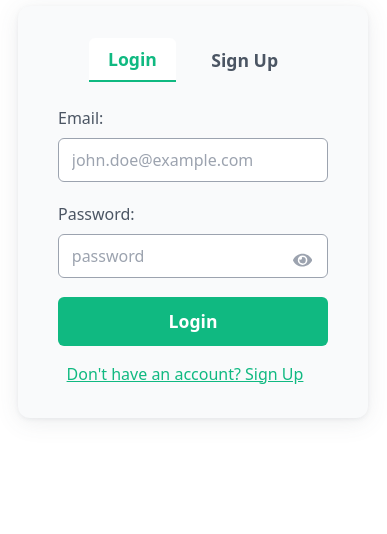
AuthForm (Login Component) - Session-Based Auth Tests › Form Rendering and Tab Navigation › renders signup form with confirm password field
Click the button "Sign Up". click: x=245, y=60
box: [192,38,297,82]
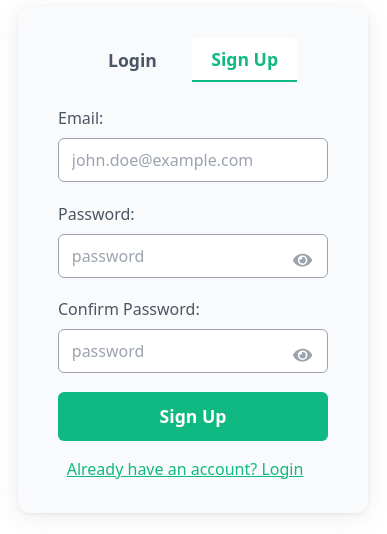
Expected: the field labelled "Email" is shown, [58,138,328,182]
Result: the password field labelled "Confirm Password" is shown at [58,329,328,373]
